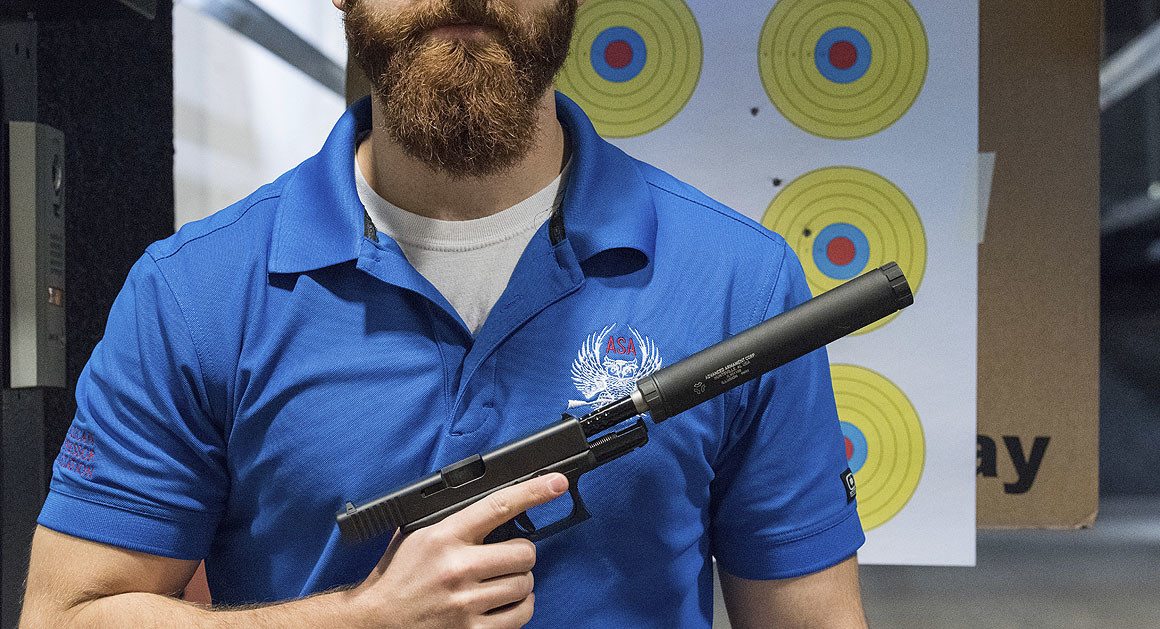pistol: (326, 257, 916, 594)
